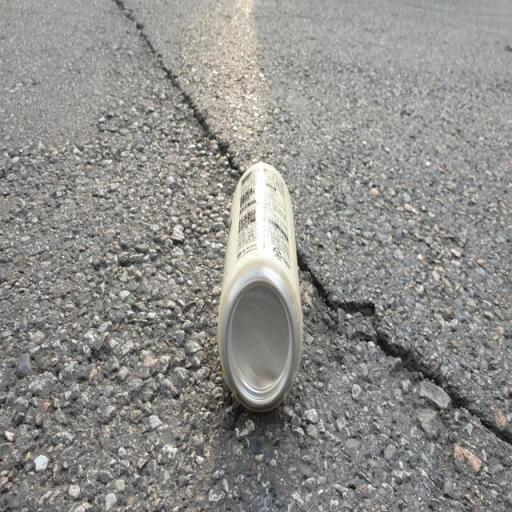metal: (209, 133, 305, 439)
